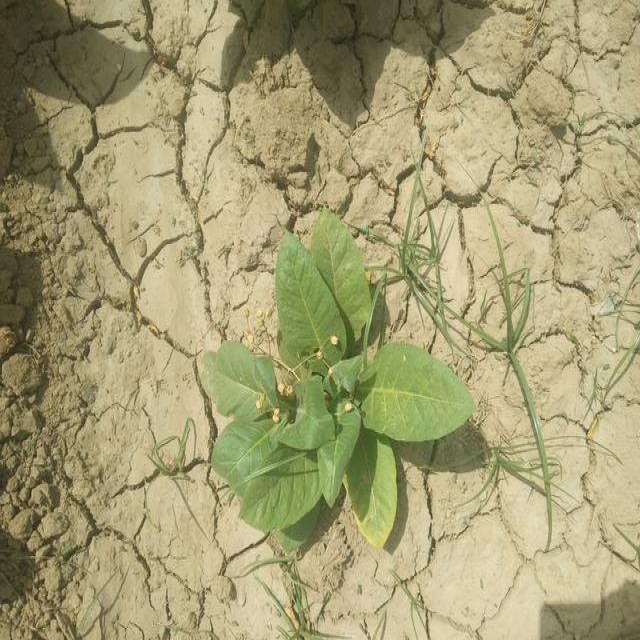crop: (206, 214, 474, 540)
